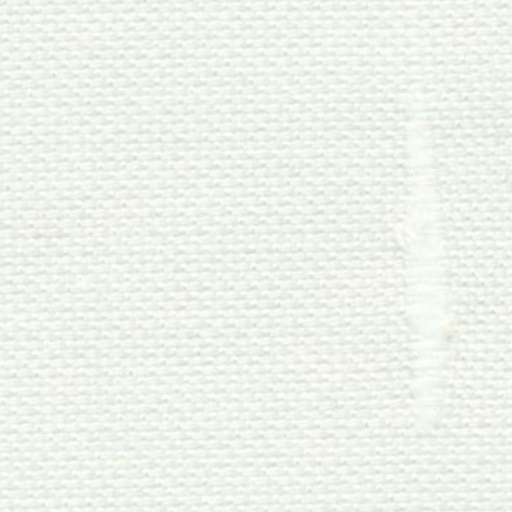DaiSha: (385, 34, 472, 443)
